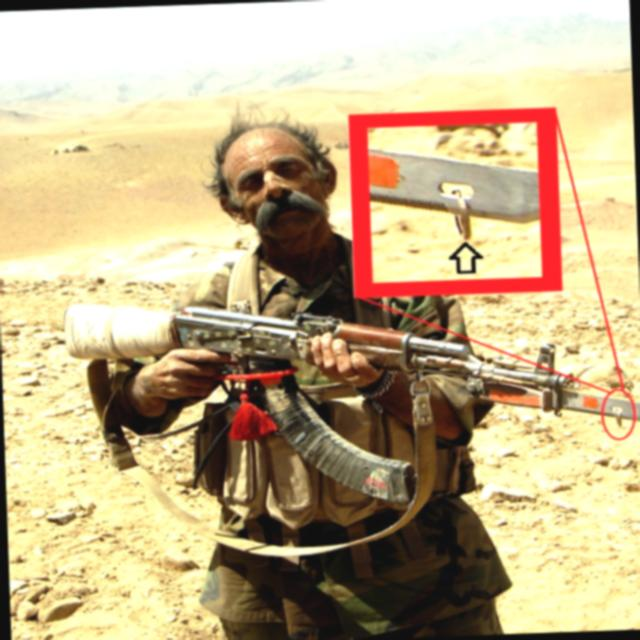ak: (49, 274, 640, 511)
